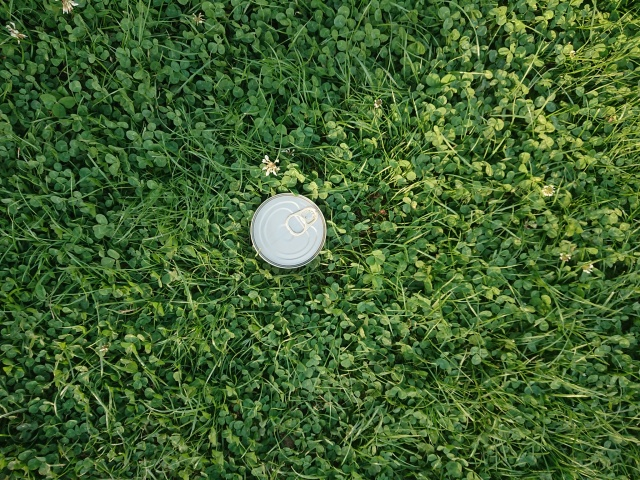Gavrilovic Pork Liver Pate 100g: (248, 189, 328, 271)
